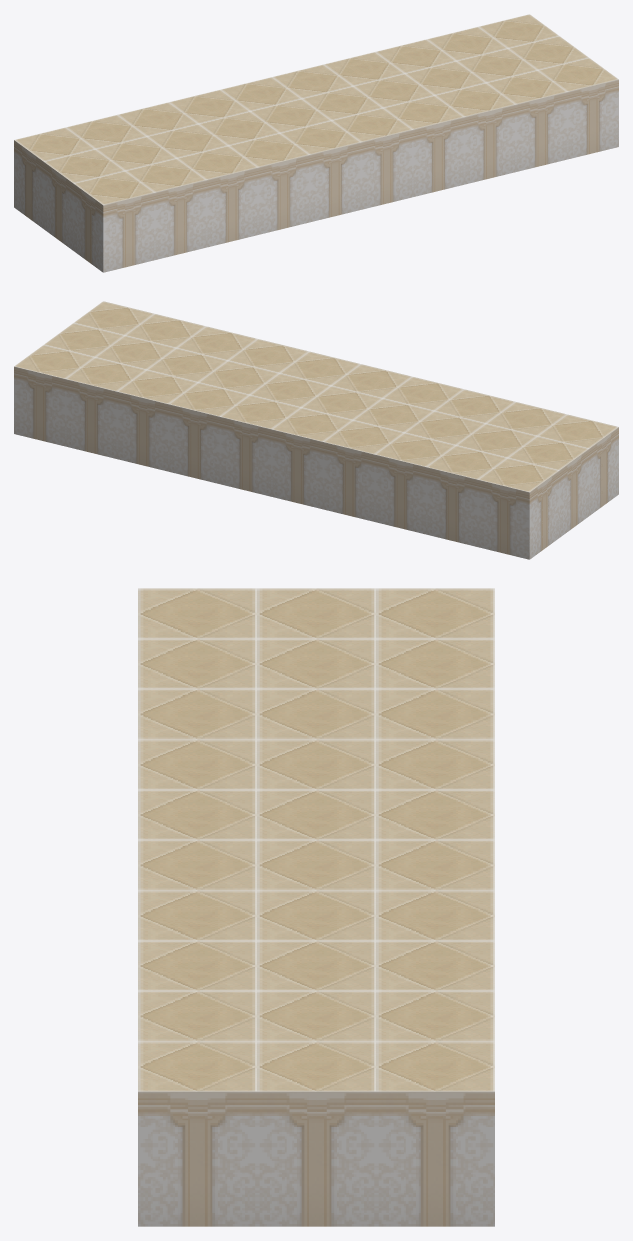
The model's file is Normal_Horizontal.fbx.
The picture shows the model from 3 angles, top to bottom: view 1: azimuth 30°, elevation 25°; view 2: azimuth 150°, elevation 25°; view 3: azimuth 270°, elevation 25°; orthographic projection. The views are drawn at different scales.
Parts seen in each view (by area): view 1: Terrain; view 2: Terrain; view 3: Terrain.
Part boxes in pixels (box(x1,y1,x2,y2)): Terrain: box(14, 14, 618, 272); Terrain: box(14, 301, 618, 559); Terrain: box(138, 588, 494, 1226).
Size of the model in its own units: 10 by 1.25 by 3.
Materials: 1 (1 with a texture image).
